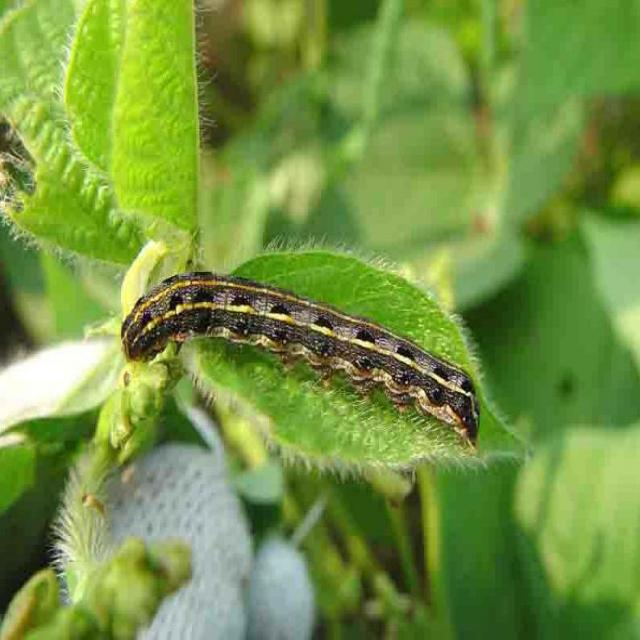BeetArmyWorm-Larva-: (112, 264, 486, 442)
